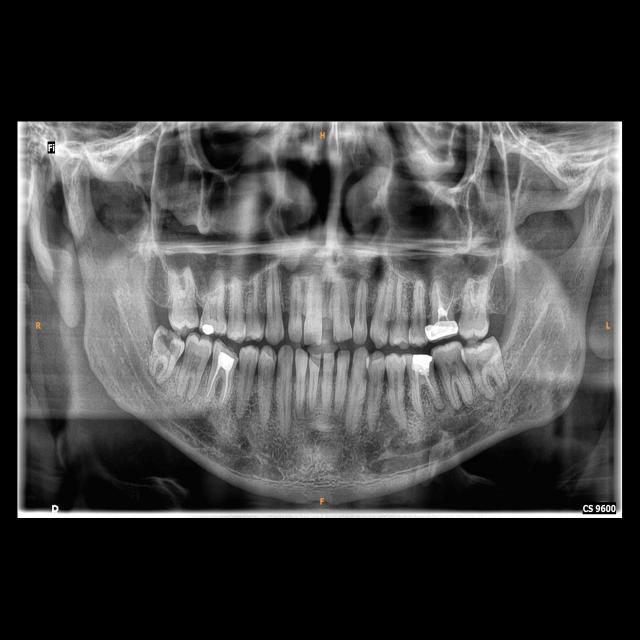dentin-curugu: (155, 331, 180, 354), (257, 308, 266, 329), (381, 316, 392, 332)
dolgu: (406, 350, 432, 376), (215, 352, 238, 378), (198, 317, 222, 337)
kanal-tedavisi: (207, 370, 231, 400), (436, 286, 454, 322), (414, 375, 436, 402)
kaplama: (423, 320, 459, 339)
